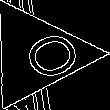O_SW: (0, 22, 75, 87)
